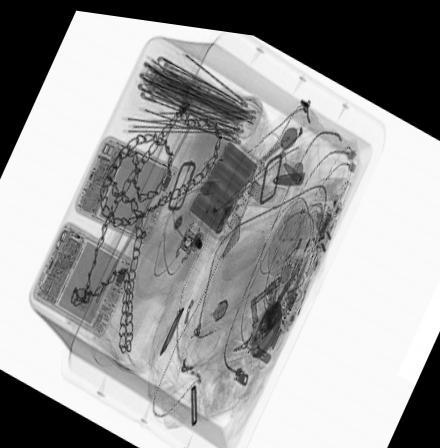Powerbank: (185, 128, 268, 242)
